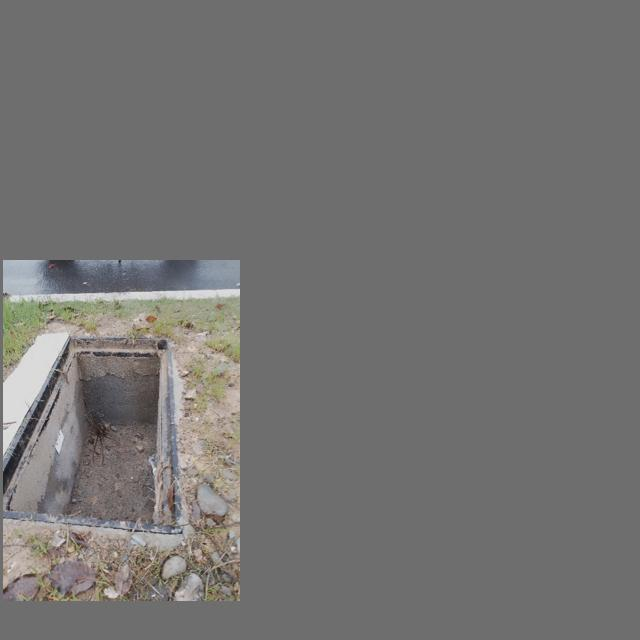lose: (3, 334, 185, 534)
